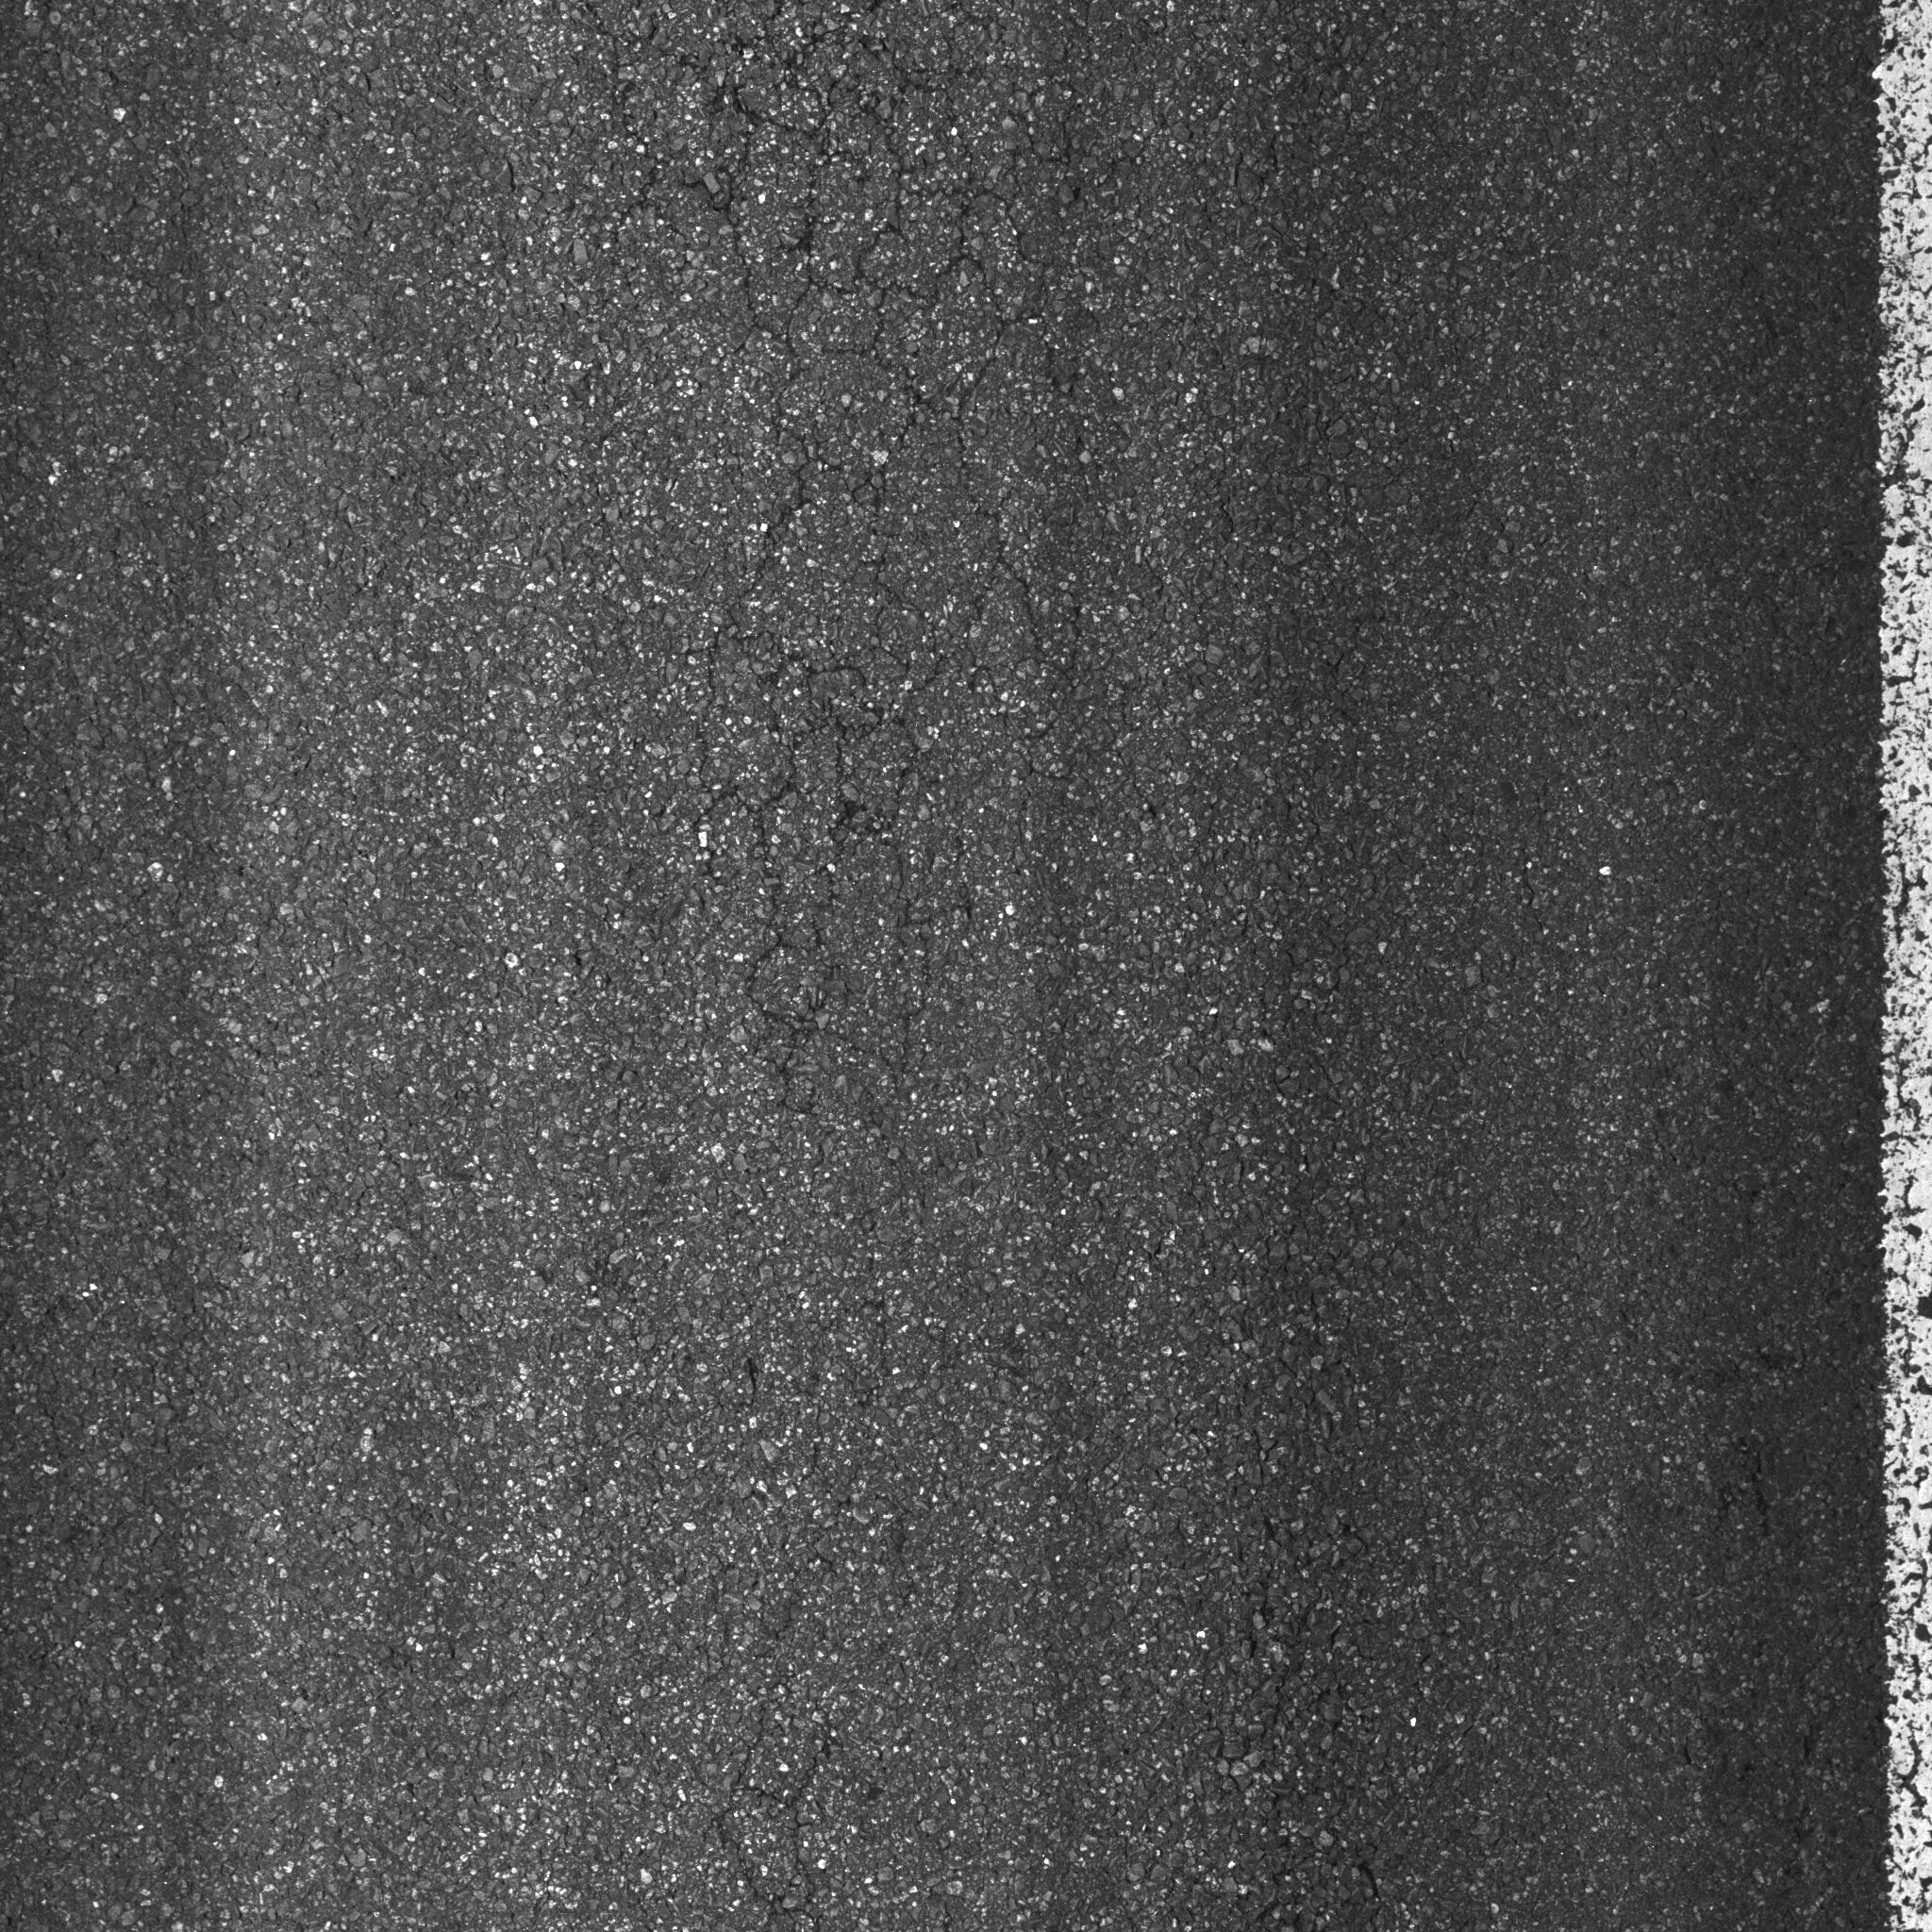alligator: (483, 2, 1148, 1169)
